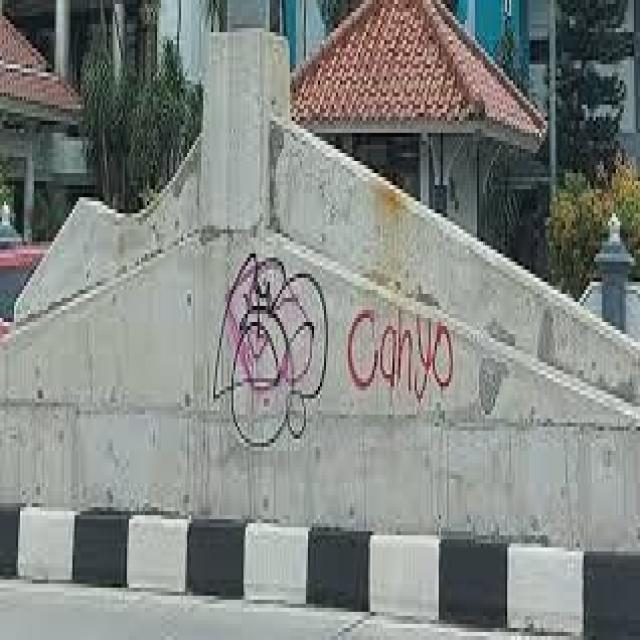nonspitting: (211, 254, 328, 448), (346, 306, 453, 399)
